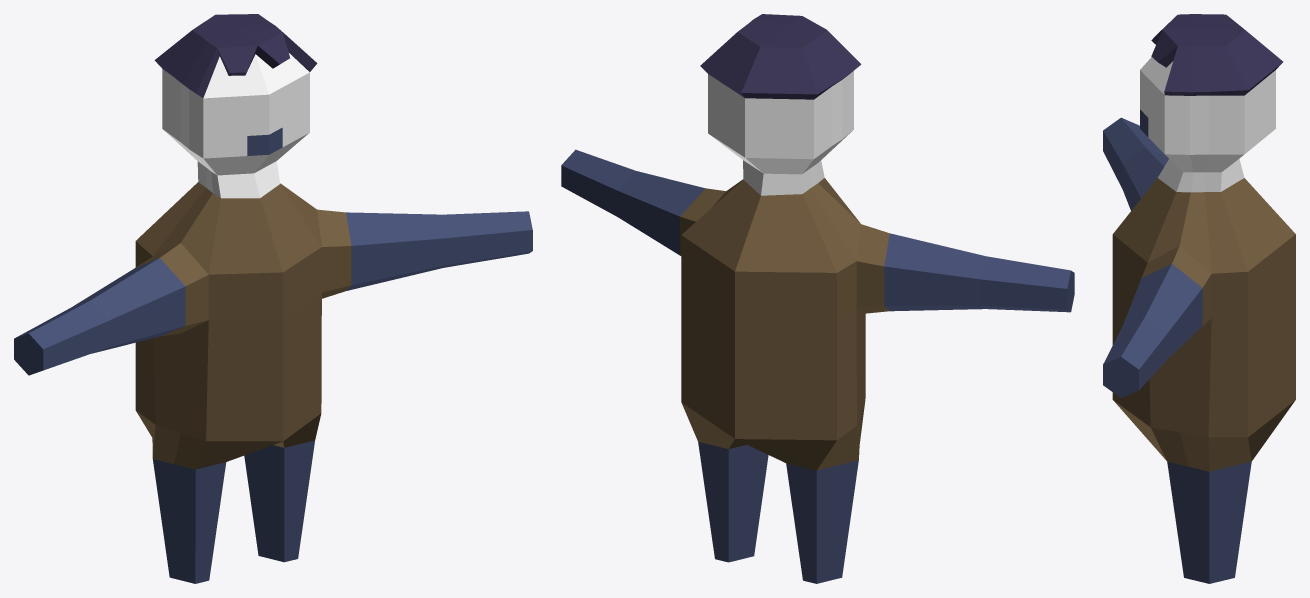
The model's file is NativeVillager1.fbx.
3 views of the same model, side by side, from view 1: azimuth 30°, elevation 25°; view 2: azimuth 150°, elevation 25°; view 3: azimuth 270°, elevation 25° (orthographic). The views are drawn at different scales.
Parts seen in each view (by area): view 1: Villager.001; view 2: Villager.001; view 3: Villager.001.
Part boxes in pixels (x1,y1,x2,y2): Villager.001: [14, 14, 532, 583]; Villager.001: [561, 14, 1074, 583]; Villager.001: [1103, 14, 1295, 583].
Size of the model in its own units: 30 by 30 by 10.
